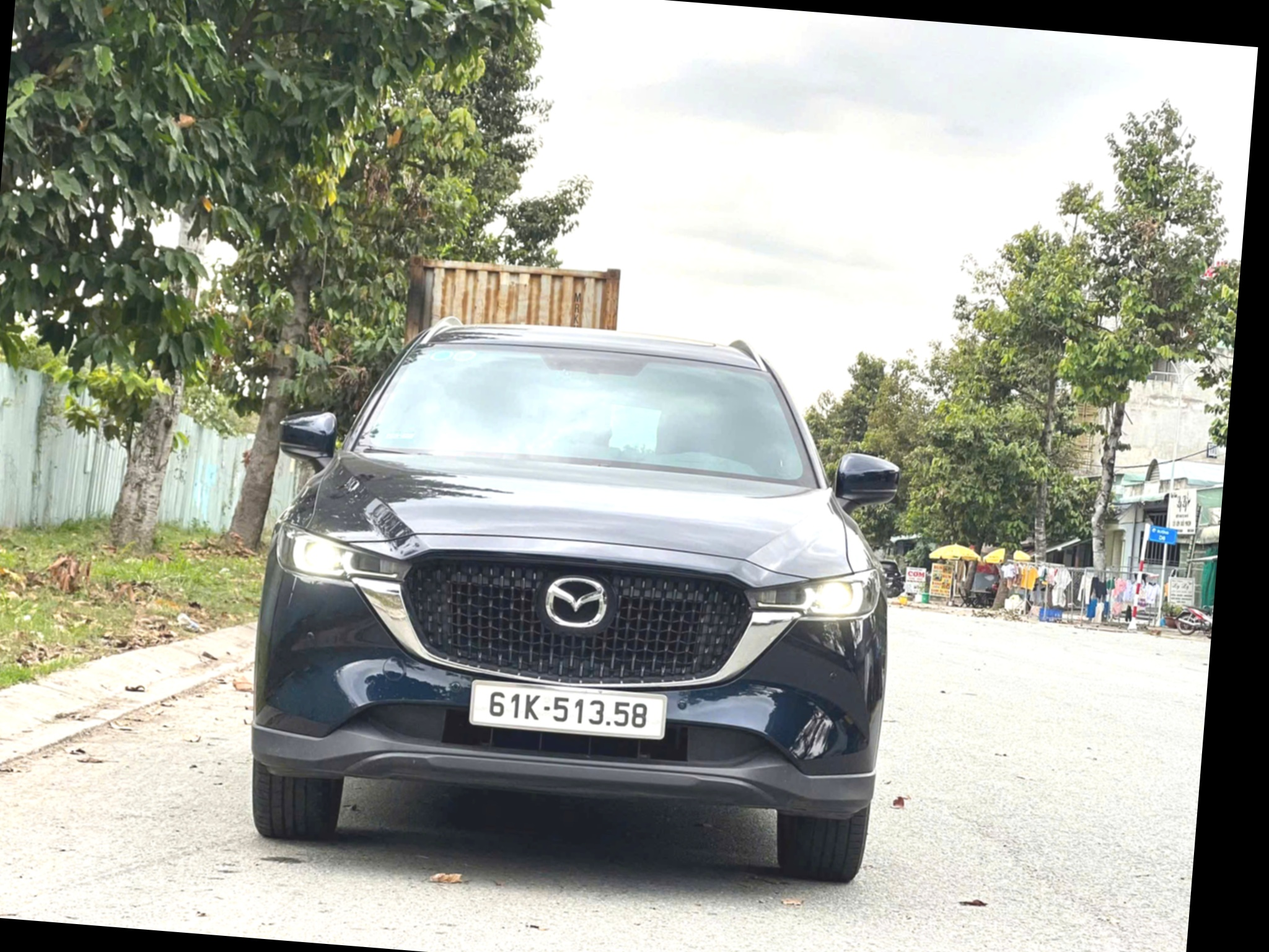Bien-so: (525, 706, 737, 766)
